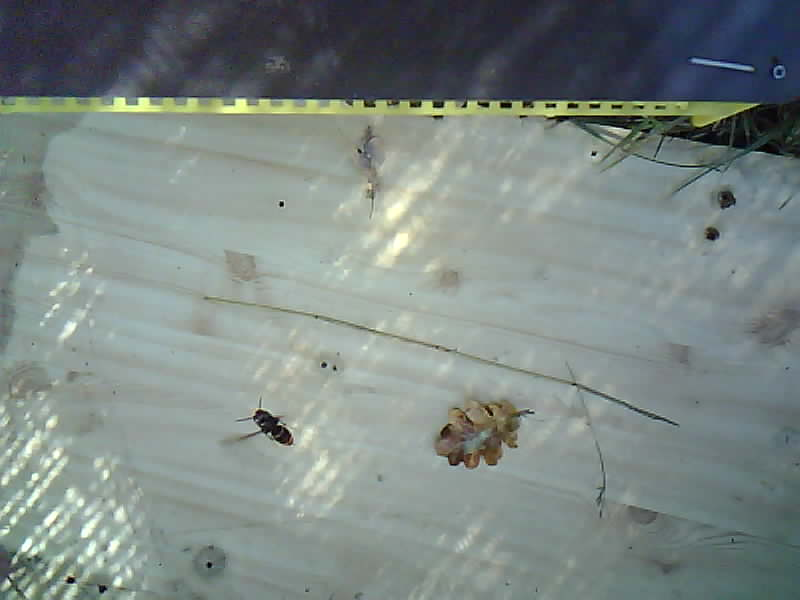hornet: (250, 403, 296, 451)
